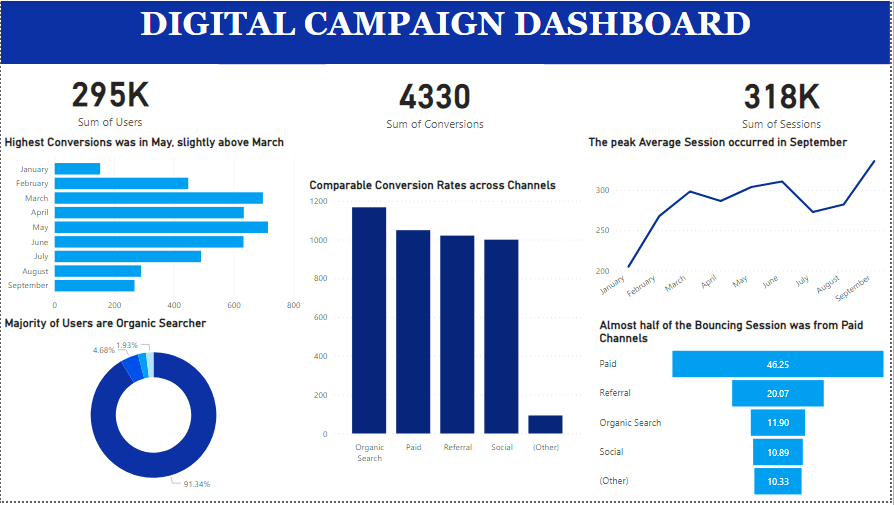

Layout of this report page (visuals, bound fields, positions):
{"tool":"powerbi","page":{"name":"dashboard","canvas":[1280,720],"ordinal":0},"visuals":[{"type":"funnel","title":"Almost half of the Bouncing Session was from Paid Channels","fields":{"Category":["full_web.Channel"],"Y":["Sum(full_web.Bounce Rate)"]},"box":[856.7,456.7,424,263.3],"z":0},{"type":"lineChart","title":"The peak Average Session occurred in September","fields":{"Y":["Avg(full_web.Sessions)"],"Category":["full_web.New Date.Variation.Date Hierarchy.Month"]},"box":[840.7,193.5,439.3,263.3],"z":1000},{"type":"clusteredBarChart","title":"Highest Conversions was in May, slightly above March","fields":{"Category":["full_web.New Date.Variation.Date Hierarchy.Month"],"Y":["Sum(full_web.Conversions)"]},"box":[0,193.5,436,263],"z":2000},{"type":"card","fields":{"Values":["Sum(full_web.Sessions)"]},"box":[967.7,90.7,312.5,102.2],"z":3000},{"type":"columnChart","title":"Comparable Conversion Rates across Channels","fields":{"Category":["full_web.Channel"],"Y":["Sum(full_web.Conversions)"]},"box":[439.3,254.5,401.5,418.9],"z":4000},{"type":"textbox","box":[0,0,1280.2,90.7],"z":5000},{"type":"donutChart","title":"Majority of Users are Organic Searcher","fields":{"Y":["Sum(full_web.Users)"],"Category":["full_web.Channel"]},"box":[0,453.8,439.3,266.2],"z":6000},{"type":"card","fields":{"Values":["Sum(full_web.Conversions)"]},"box":[468,90.7,313.9,102.2],"z":7000},{"type":"card","fields":{"Values":["Sum(full_web.Users)"]},"box":[0,90.7,313.9,96.5],"z":8000}]}

Visuals, with their boxes in screenshot pixels (x1, y1, x2, y2), scaled from the page's 1280x720 canvas onto the 894x505 screenshot:
"Almost half of the Bouncing Session was from Paid Channels" funnel: 598/320/893/504
"The peak Average Session occurred in September" lineChart: 587/136/893/320
"Highest Conversions was in May, slightly above March" clusteredBarChart: 0/136/305/320
card - Sum(full_web.Sessions): 676/64/893/135
"Comparable Conversion Rates across Channels" columnChart: 307/179/587/472
textbox: 0/0/893/64
"Majority of Users are Organic Searcher" donutChart: 0/318/307/504
card - Sum(full_web.Conversions): 327/64/546/135
card - Sum(full_web.Users): 0/64/219/131
